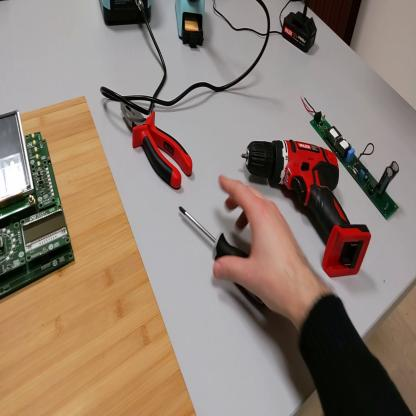electric screwdriver: (243, 136, 374, 278)
electric screwdriver battery: (282, 11, 318, 54)
hand: (214, 176, 304, 313)
high voltage board: (301, 95, 400, 222)
low voltage board: (2, 111, 75, 297)
pliers: (120, 101, 194, 192)
screwdriver-: (181, 206, 264, 305)
welder base: (176, 2, 206, 49)
welder station: (99, 2, 153, 30)
working area: (2, 95, 197, 415)
